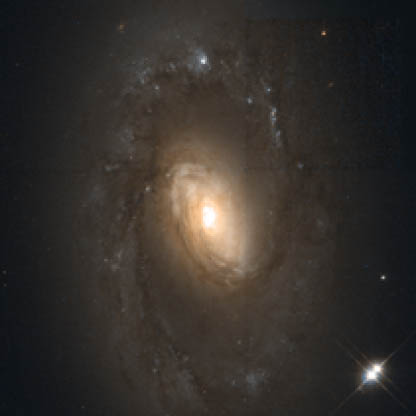NGC 4102: (62, 19, 397, 403)
